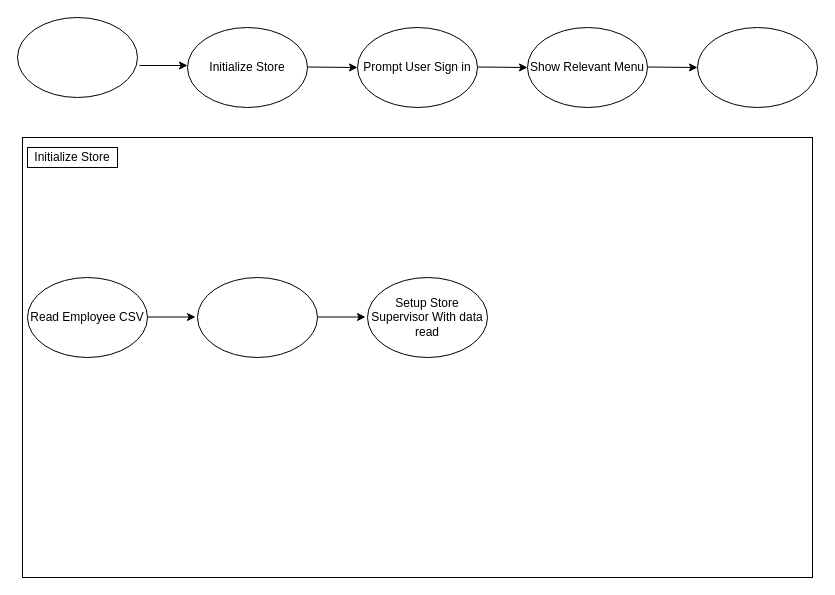
Some shapes in this 835 by 595 pixel diagram are drawn without their labels. Here are the shapes that lost their labels. From the top down, the centre of each, then its label:
At [77,57]: "Start up".
At [757,67]: "Allow for user input".
At [257,317]: "Read Item CSV".
